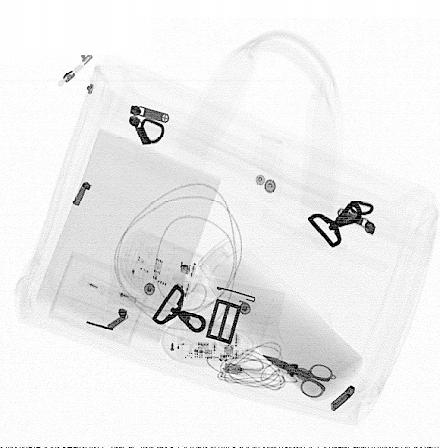Scissors: (262, 355, 338, 400)
